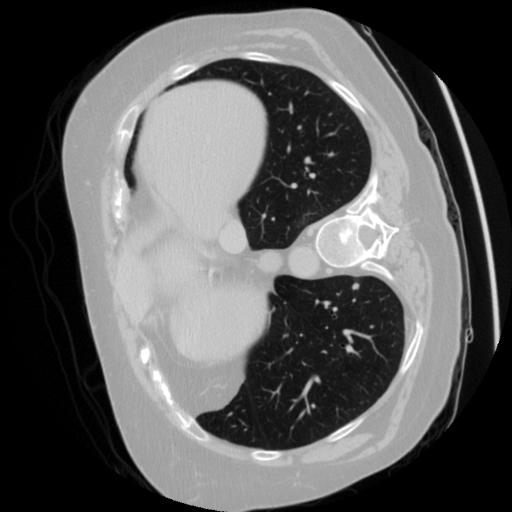nodule: (348, 279, 362, 293)
